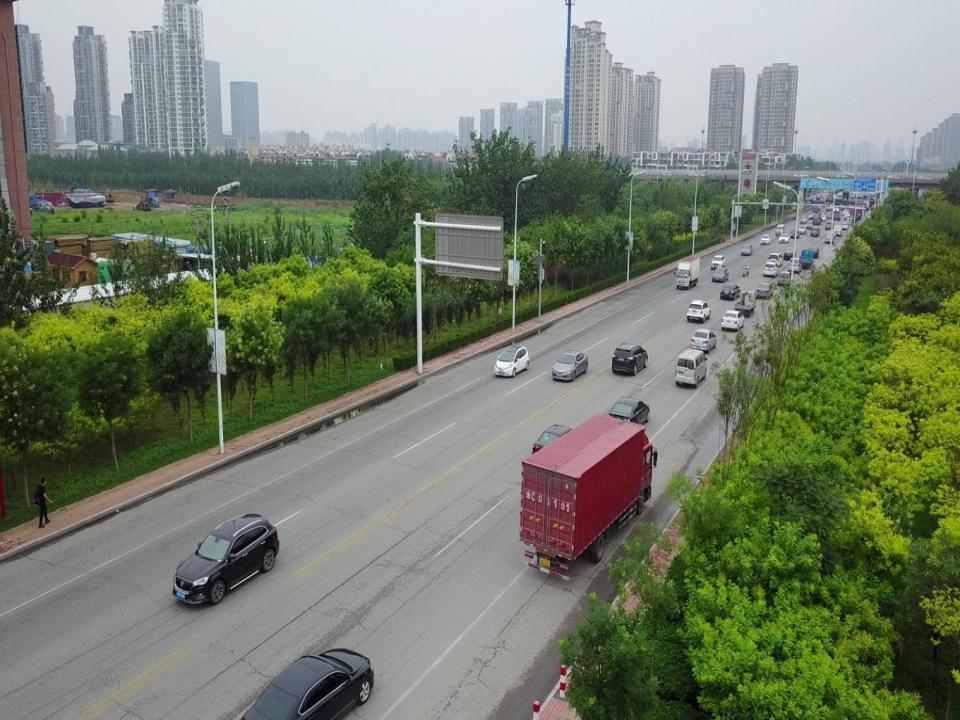car: (233, 647, 374, 720), (172, 511, 278, 604), (532, 424, 580, 462), (607, 396, 649, 432), (494, 346, 530, 378), (552, 350, 588, 382), (612, 342, 648, 374), (690, 327, 716, 353), (686, 299, 711, 323), (721, 310, 744, 330), (720, 284, 740, 300), (756, 284, 774, 300), (767, 252, 783, 268), (710, 255, 726, 270), (712, 267, 728, 282), (763, 262, 779, 276), (778, 271, 794, 285), (788, 258, 802, 272), (783, 249, 797, 260), (741, 244, 753, 255), (808, 246, 820, 257), (760, 234, 771, 245), (810, 226, 821, 236), (824, 233, 834, 244), (778, 233, 790, 242), (790, 230, 800, 238), (797, 225, 807, 233), (825, 222, 835, 230), (828, 231, 836, 238), (842, 222, 849, 230)
truck: (520, 412, 657, 582), (674, 256, 700, 290), (734, 289, 756, 316), (798, 249, 814, 269)
van: (675, 347, 707, 387), (775, 224, 785, 236), (834, 224, 842, 236)
